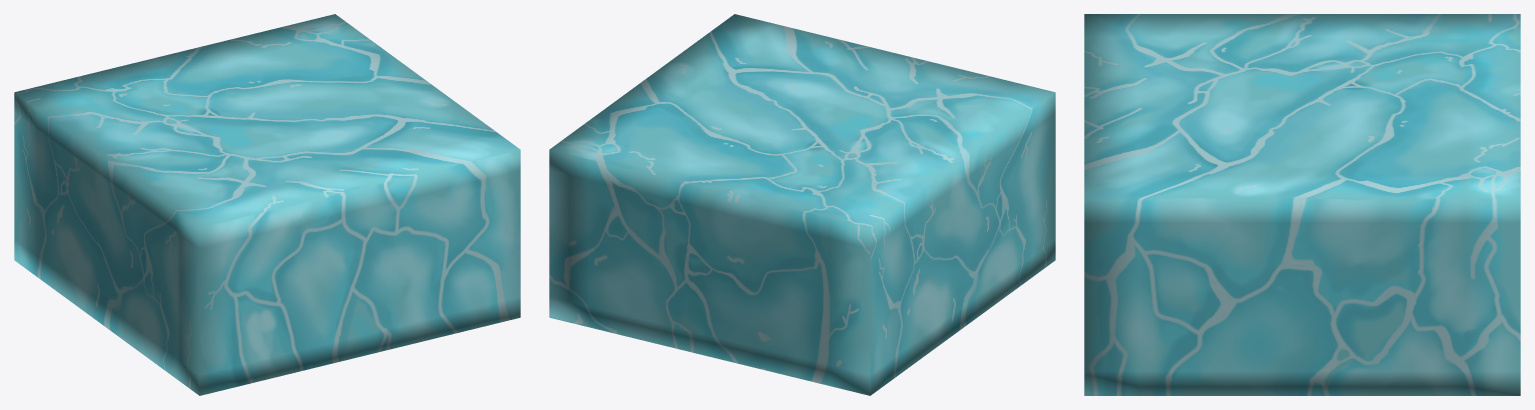
The model's file is tile.fbx.
The picture shows the model from 3 angles, left to right: view 1: azimuth 30°, elevation 25°; view 2: azimuth 150°, elevation 25°; view 3: azimuth 270°, elevation 25°; orthographic projection. The views are drawn at different scales.
Parts seen in each view (by area): view 1: Cube; view 2: Cube; view 3: Cube.
Part boxes in pixels (x1,y1,x2,y2): Cube: (14,14,520,395); Cube: (549,14,1055,395); Cube: (1084,14,1520,395).
Bounding box in the file's own units: 200 × 100 × 200.
Materials: 1 (1 with a texture image).
